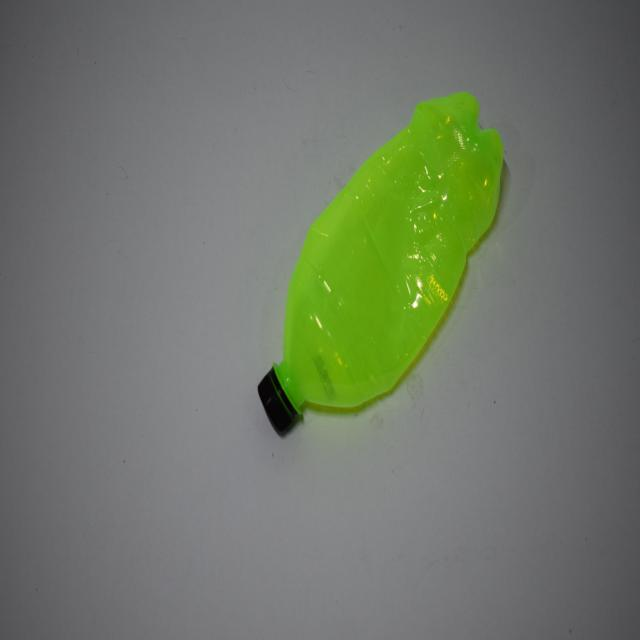bottle: (256, 87, 506, 436)
